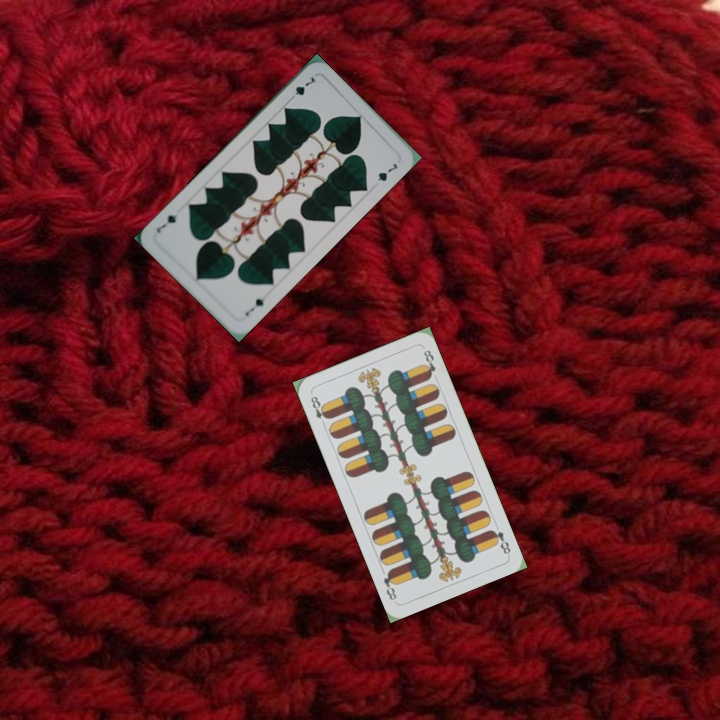E8: (307, 392, 331, 429), (486, 526, 513, 557)
G7: (285, 73, 317, 104), (241, 294, 267, 319)
